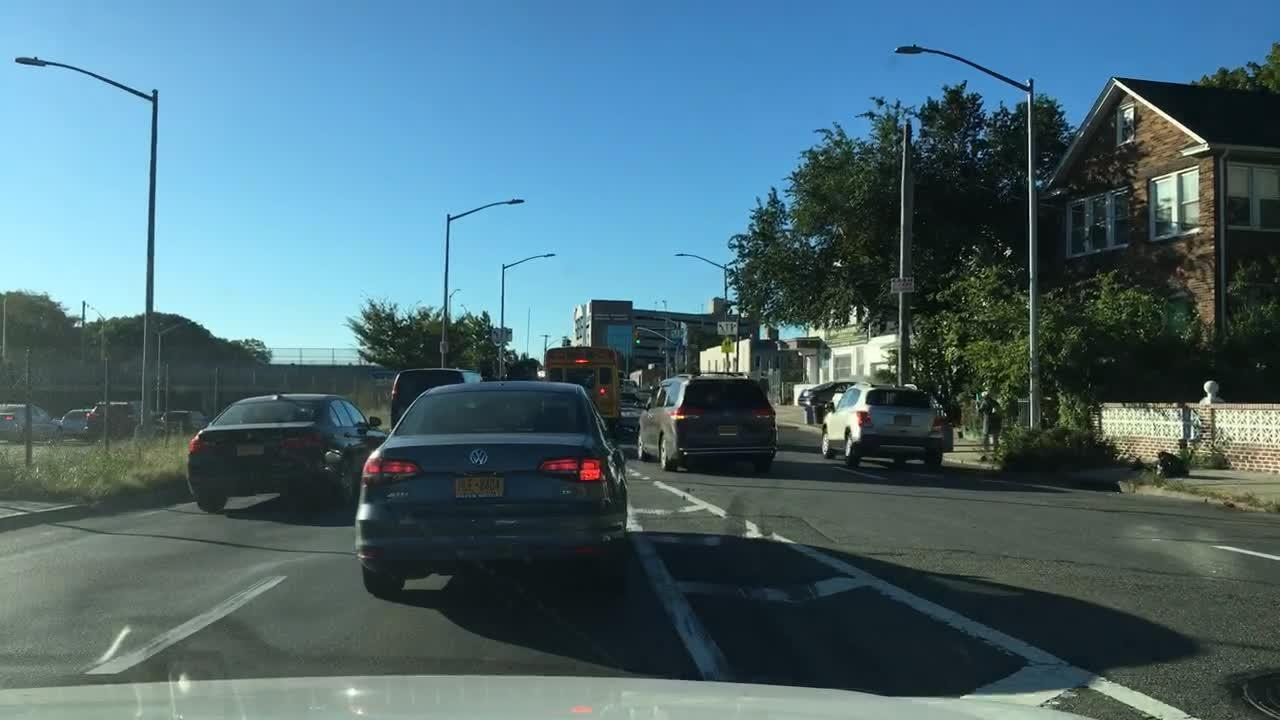Volkswagen: (467, 447, 489, 469)
